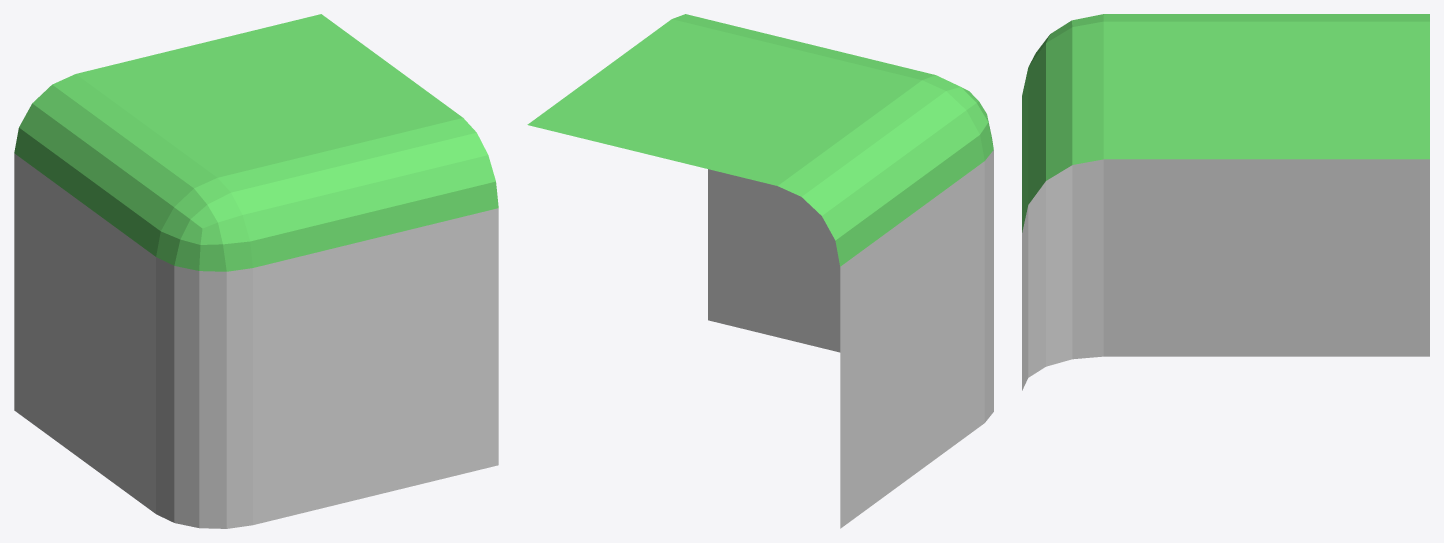
3 views of the same model, side by side, from view 1: azimuth 30°, elevation 25°; view 2: azimuth 150°, elevation 25°; view 3: azimuth 270°, elevation 25° (orthographic). The views are drawn at different scales.
Visible parts, largest first — view 1: Cube.017; view 2: Cube.017; view 3: Cube.017.
Boxes of the visible parts, box(x1,y1,x2,y2) form: Cube.017: box(14, 14, 498, 528); Cube.017: box(527, 14, 993, 528); Cube.017: box(1022, 14, 1429, 390).
Size of the model in its own units: 0.5 by 0.5 by 0.5.
